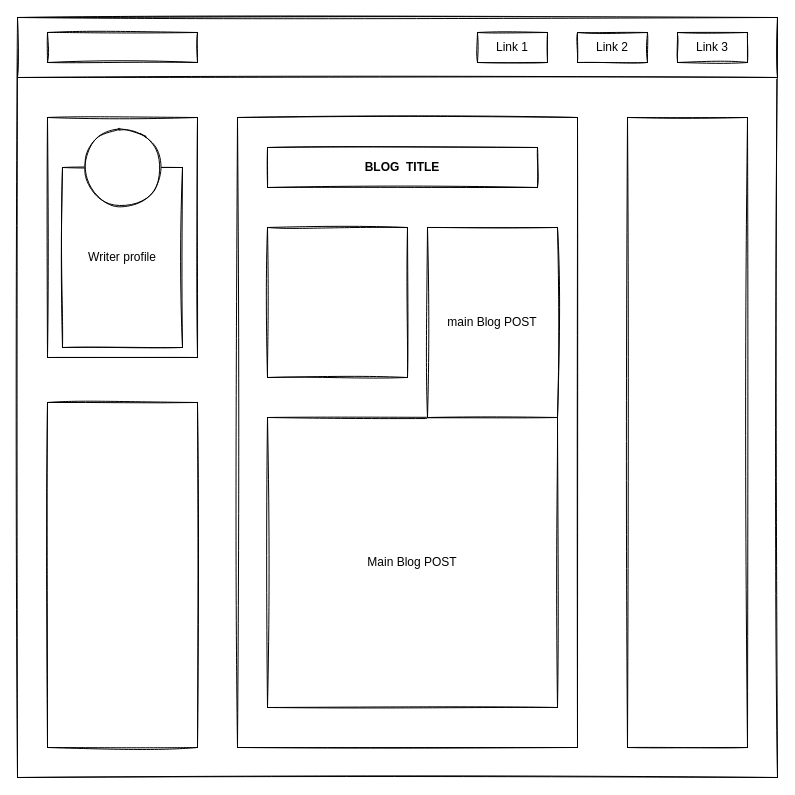
The diagram is 795 pixels wide and 795 high, and some of its shapes have lost their labels. Each missing label, with the centre of its shape:
"Cover image" goes at point 337,302.
"Extra Space / Advertisement space" goes at point 122,575.
"Links" goes at point 687,432.
"Logo/Brand" goes at point 122,47.
